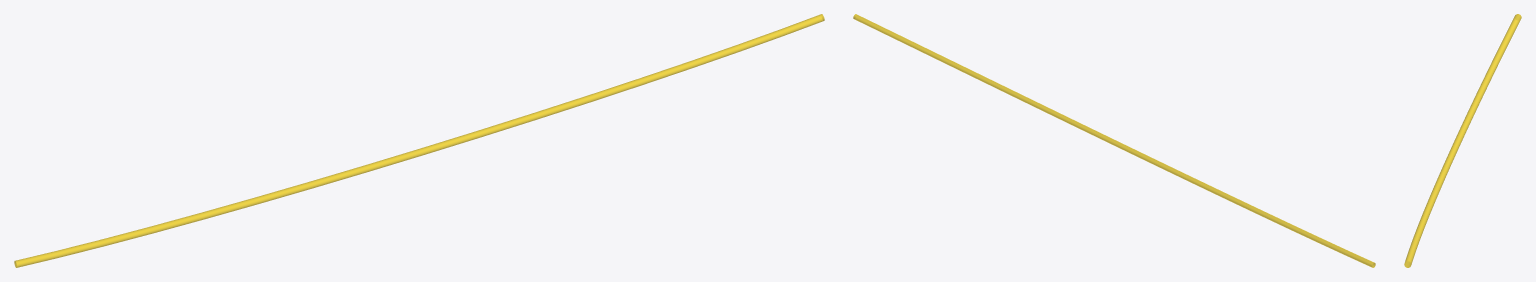
The model's file is Event_419990632_track_27.fbx.
3 renders of one model, left to right at view 1: azimuth 30°, elevation 25°; view 2: azimuth 150°, elevation 25°; view 3: azimuth 270°, elevation 25°, orthographic. The views are drawn at different scales.
Parts seen in each view (by area): view 1: Model; view 2: Model; view 3: Model.
Boxes of the visible parts, x1=… form: Model: x1=14, y1=14, x2=824, y2=267; Model: x1=853, y1=14, x2=1375, y2=267; Model: x1=1404, y1=14, x2=1521, y2=267.
Size of the model in its own units: 4.69 by 0.6745 by 0.665.
